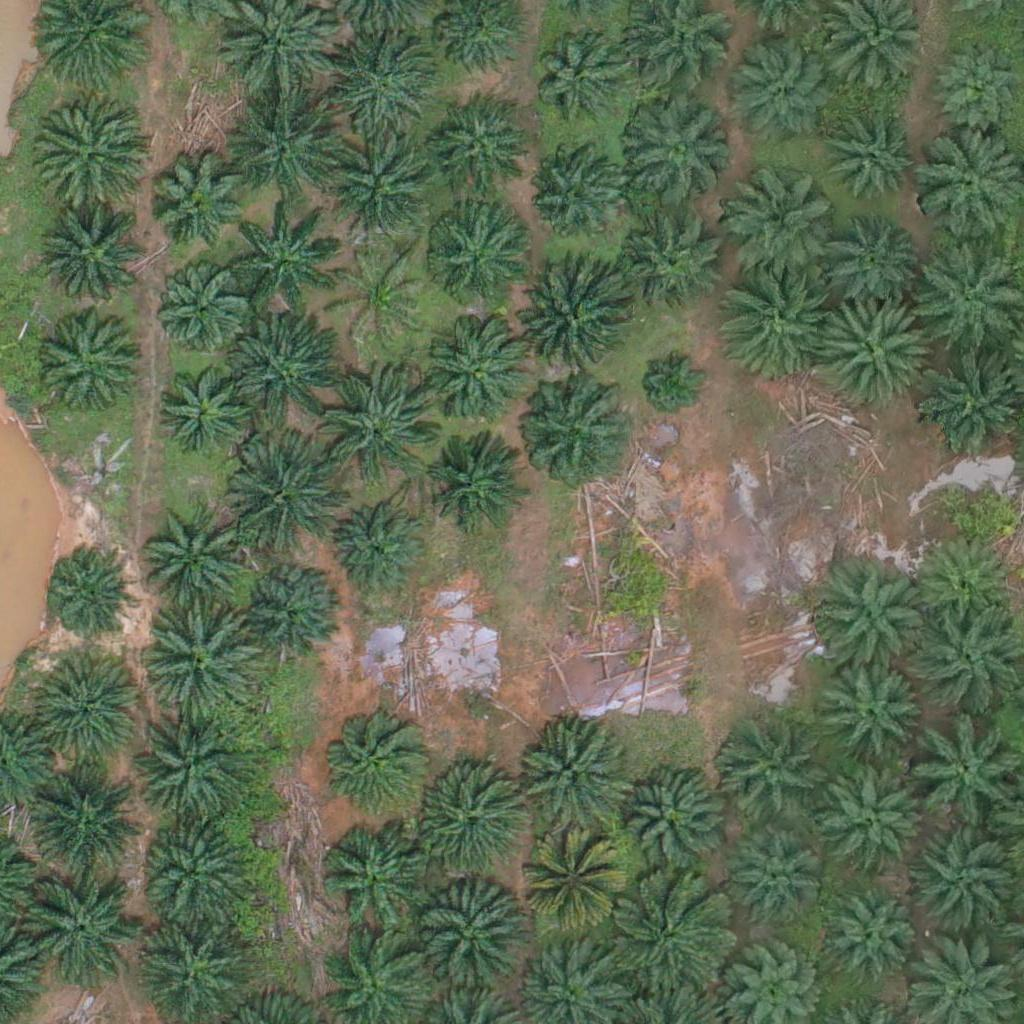Kelapa_Sawit: (141, 811, 254, 925), (229, 439, 342, 553), (132, 716, 245, 830), (30, 652, 143, 766), (907, 824, 1020, 937), (613, 877, 726, 990), (416, 884, 529, 997), (318, 826, 431, 939), (908, 230, 1021, 343), (815, 294, 928, 407), (720, 35, 833, 148), (720, 154, 833, 267), (712, 268, 825, 381), (910, 720, 1023, 833), (815, 563, 928, 676), (612, 765, 725, 878), (617, 95, 730, 208), (516, 264, 629, 377), (230, 313, 343, 426), (32, 94, 145, 207), (911, 128, 1023, 242), (424, 314, 536, 428), (325, 25, 437, 139), (326, 138, 438, 252), (319, 703, 431, 817), (29, 760, 141, 874), (39, 203, 151, 317), (21, 871, 133, 984), (818, 753, 930, 866), (712, 716, 824, 829), (515, 722, 627, 835), (405, 766, 517, 879), (518, 380, 630, 493), (322, 369, 434, 482), (227, 200, 339, 313), (231, 85, 343, 198), (143, 493, 255, 606), (147, 607, 259, 720), (822, 213, 922, 314), (826, 100, 926, 201), (915, 533, 1015, 634), (823, 667, 923, 768), (626, 214, 726, 315), (523, 146, 623, 247), (332, 242, 432, 343), (239, 560, 339, 661), (149, 260, 249, 361), (153, 356, 253, 457), (42, 312, 142, 413), (520, 837, 620, 937), (425, 433, 525, 533), (429, 104, 529, 204), (422, 205, 522, 305), (328, 506, 428, 606), (146, 153, 246, 253), (934, 44, 1022, 132), (534, 33, 622, 121), (830, 894, 917, 982), (732, 839, 819, 927), (43, 546, 130, 634), (636, 343, 711, 418)
